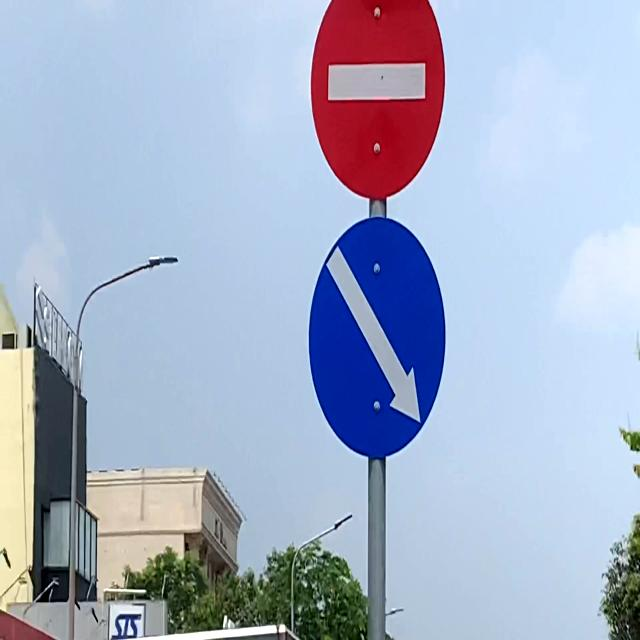P.102: (309, 0, 446, 201)
R.302a: (307, 215, 447, 460)
